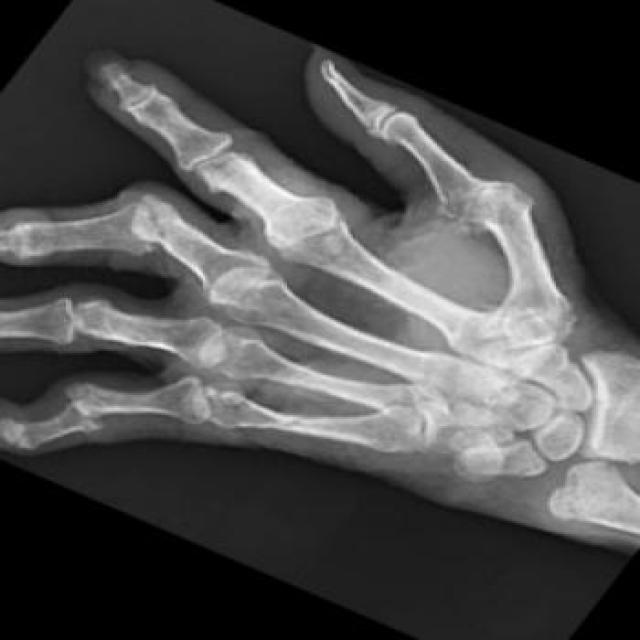Fracture: (117, 192, 173, 260), (56, 378, 100, 449)
